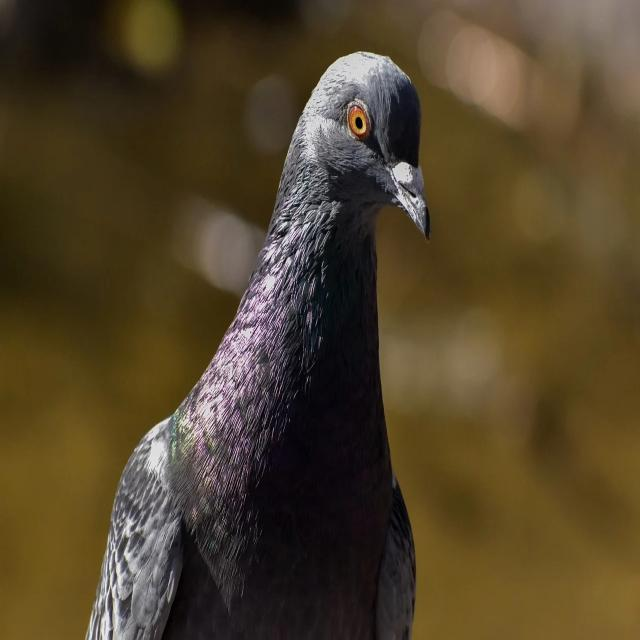pegion: (236, 42, 504, 536)
